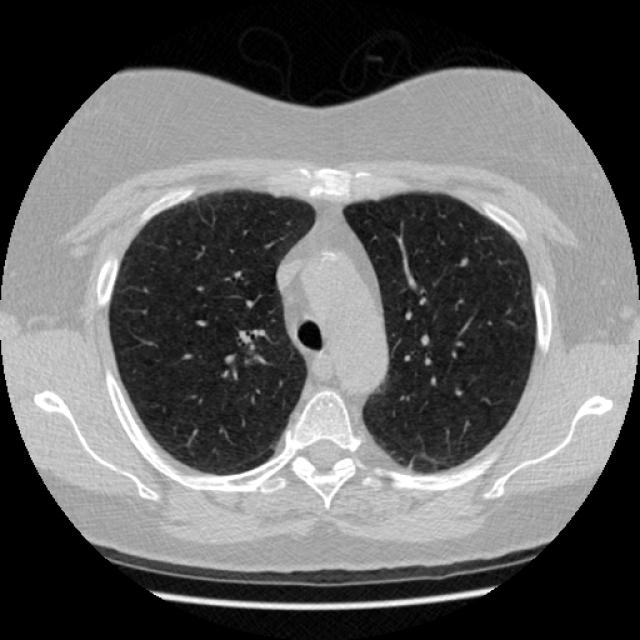nodule: (454, 252, 471, 270)
